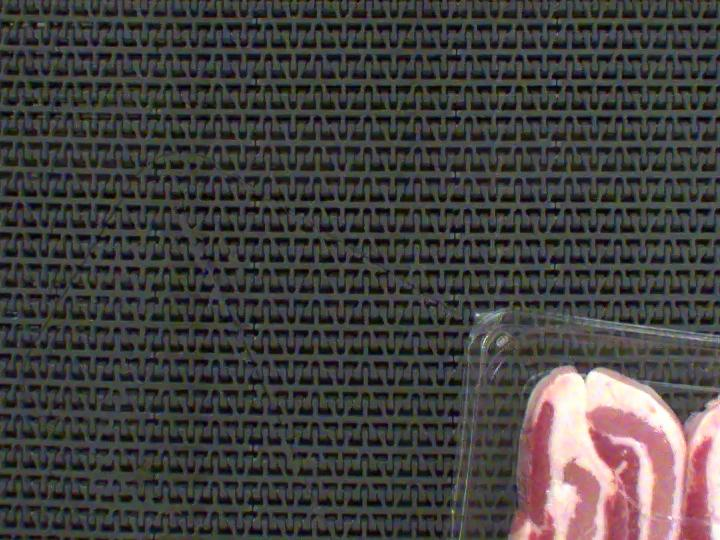wrinkle: (628, 498, 720, 536)
